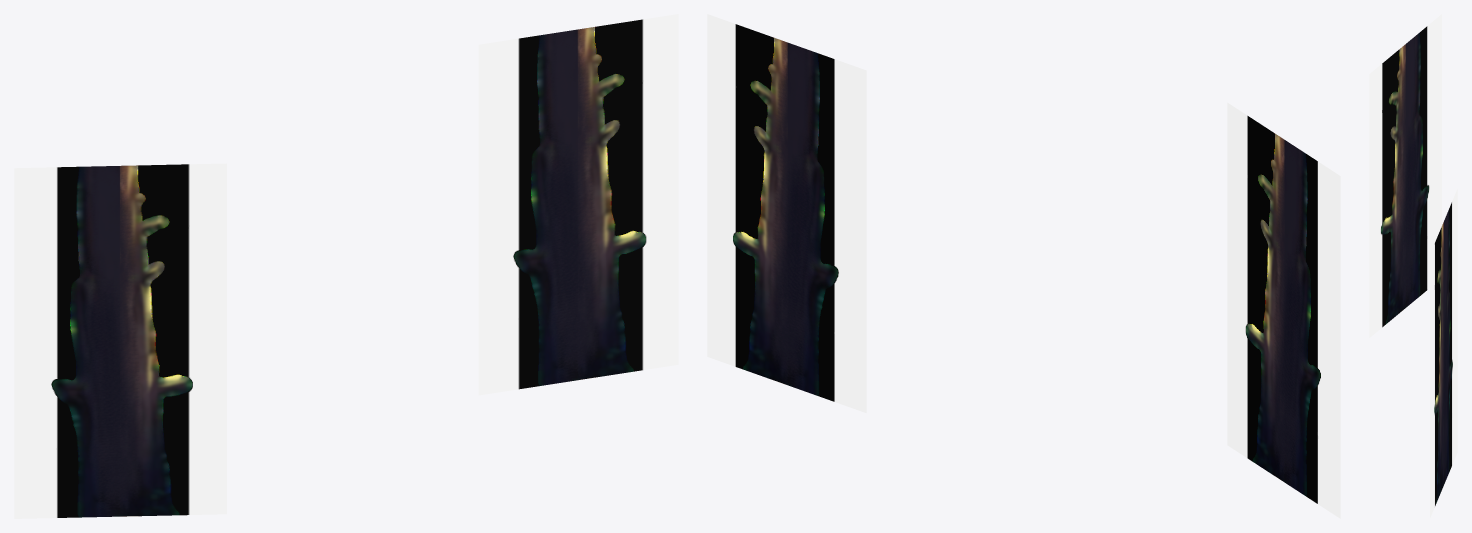
File: FOREGROUND TREES.fbx
3 renders of one model, left to right at view 1: azimuth 30°, elevation 25°; view 2: azimuth 150°, elevation 25°; view 3: azimuth 270°, elevation 25°, orthographic. The views are drawn at different scales.
Parts seen in each view (by area): view 1: FOREGROUND_TREES; view 2: FOREGROUND_TREES; view 3: FOREGROUND_TREES.
Boxes of the visible parts, left/top/right/bottom form: FOREGROUND_TREES: left=14, top=14, right=678, bottom=518; FOREGROUND_TREES: left=707, top=14, right=1340, bottom=518; FOREGROUND_TREES: left=1369, top=14, right=1457, bottom=517.
Size of the model in its own units: 102 by 52.07 by 15.8.
